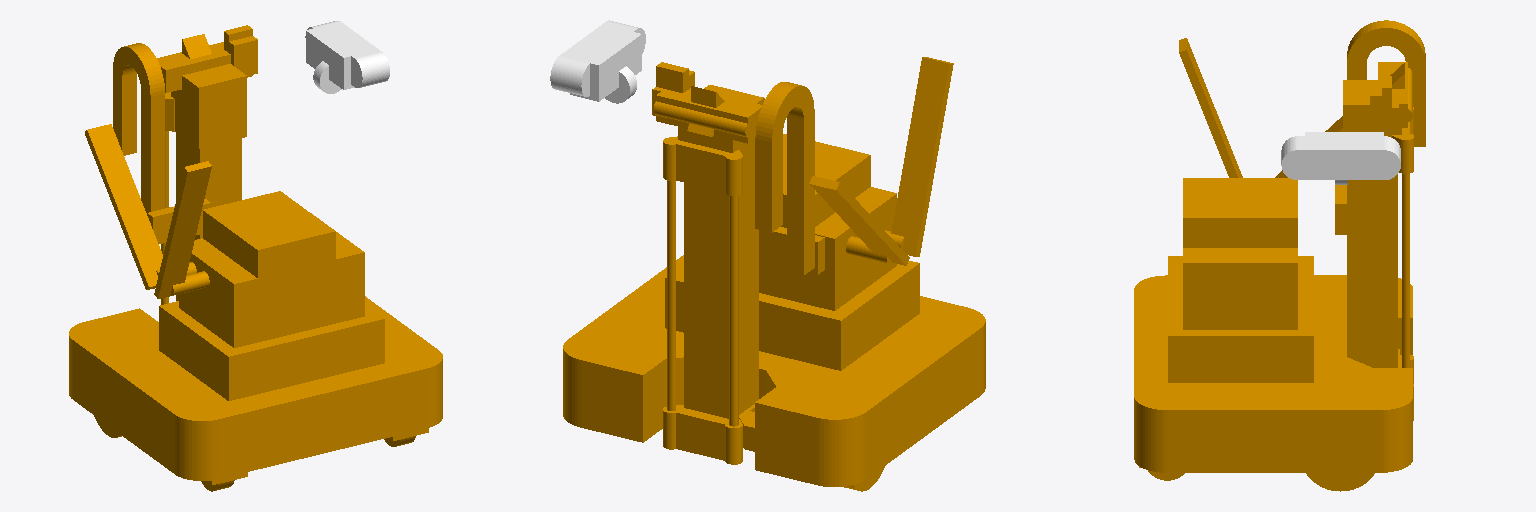
URDF robot description (dodobot):
<robot name="dodobot">
  <material name="white">
    <color rgba="1 1 1 1"/>
  </material>

  <link name="base_link">
    <visual>
      <origin rpy="0 0 1.5707" xyz="-0.04943 0.0 0.0"/>
      <geometry>
        <mesh filename="package://db_support/meshes/chassis.stl"/>
      </geometry>
    </visual>
  </link>

  <joint name="base_link_to_camera_joint" type="fixed">
    <parent link="base_link"/>
    <child link="tilt_base_link"/>
    <origin xyz="0.03016488 0.0 0.24785032"/>
  </joint>

  <link name="tilt_base_link">
    <visual>
      <!-- <origin rpy="1.5707 0 1.5707" xyz="0.01457 0.0027 0.0136"/> -->
      <origin rpy="1.5707 0 1.5707" xyz="0.0456 0 0"/>
      <geometry>
        <mesh filename="package://db_support/meshes/camera.stl"/>
      </geometry>
      <material name="white"/>
    </visual>
  </link>
</robot>

--- What the picture shows (computed from the rendered views, not written in the file) ---
Views: 3 orthographic renders of the robot side by side, from view 1: azimuth 30°, elevation 25°; view 2: azimuth 150°, elevation 25°; view 3: azimuth 270°, elevation 25°.
Model dodobot with 2 links and 1 joints (1 fixed), rooted at base_link, posed all joints at 0.
Links seen in each view (by area): view 1: base_link, tilt_base_link; view 2: base_link, tilt_base_link; view 3: base_link, tilt_base_link.
Boxes of the visible links, <box> form: base_link: <box>69,25,442,491</box>; tilt_base_link: <box>305,21,389,93</box>; base_link: <box>563,57,985,491</box>; tilt_base_link: <box>550,20,645,103</box>; base_link: <box>1134,20,1425,491</box>; tilt_base_link: <box>1281,132,1400,184</box>.
Size in the robot's own frame: 0.2452 by 0.2193 by 0.3117 metres.
Meshes: 2 distinct files referenced, 2 mesh visuals loaded (2 binary STL).